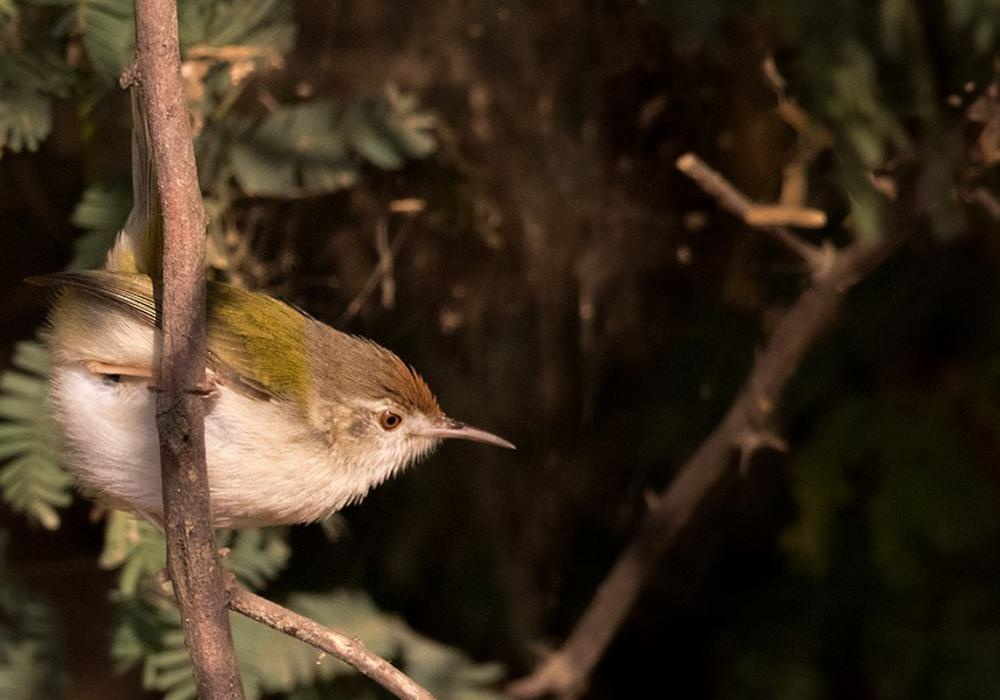tailorbird: (1, 183, 531, 560)
